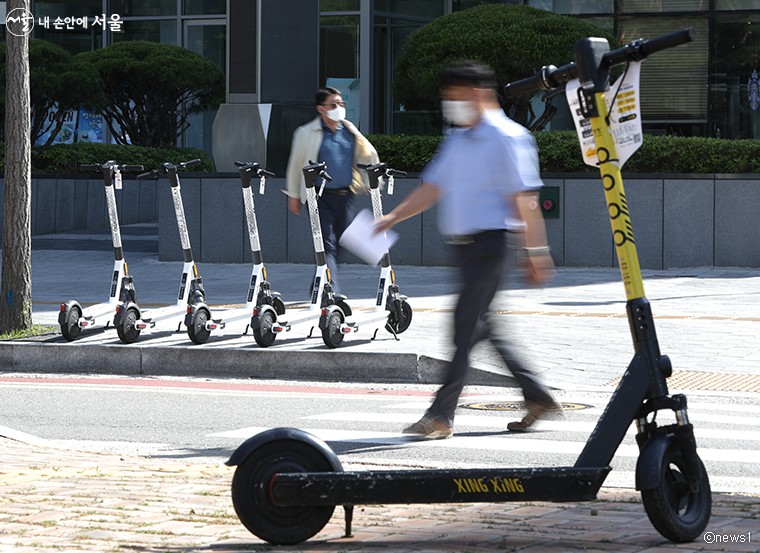kick_body: (340, 462, 626, 503)
kick_handler: (510, 20, 692, 93), (231, 154, 278, 179), (355, 158, 405, 180), (302, 156, 336, 183), (82, 161, 146, 173)
kick_neck: (577, 86, 665, 405), (164, 174, 208, 308), (235, 178, 276, 300), (98, 178, 139, 296), (300, 176, 335, 297)
kick_wheel: (225, 428, 343, 542), (630, 423, 711, 541), (249, 303, 281, 345), (317, 306, 349, 347), (380, 293, 412, 334), (110, 304, 144, 342), (52, 298, 84, 338), (182, 302, 214, 342)
